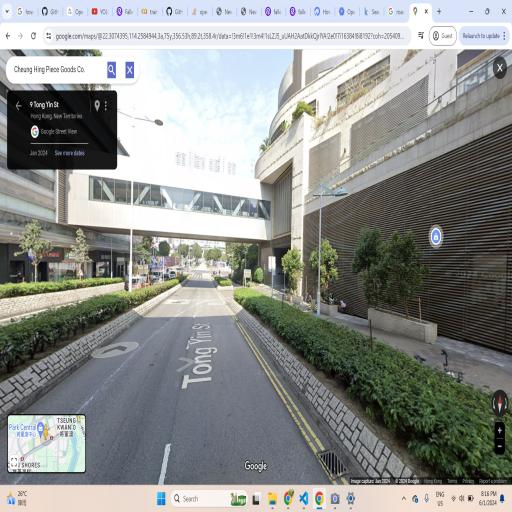Roads: (112, 279, 318, 452)
Trees: (342, 210, 384, 326), (389, 224, 427, 336), (306, 235, 344, 313), (274, 240, 308, 308)
